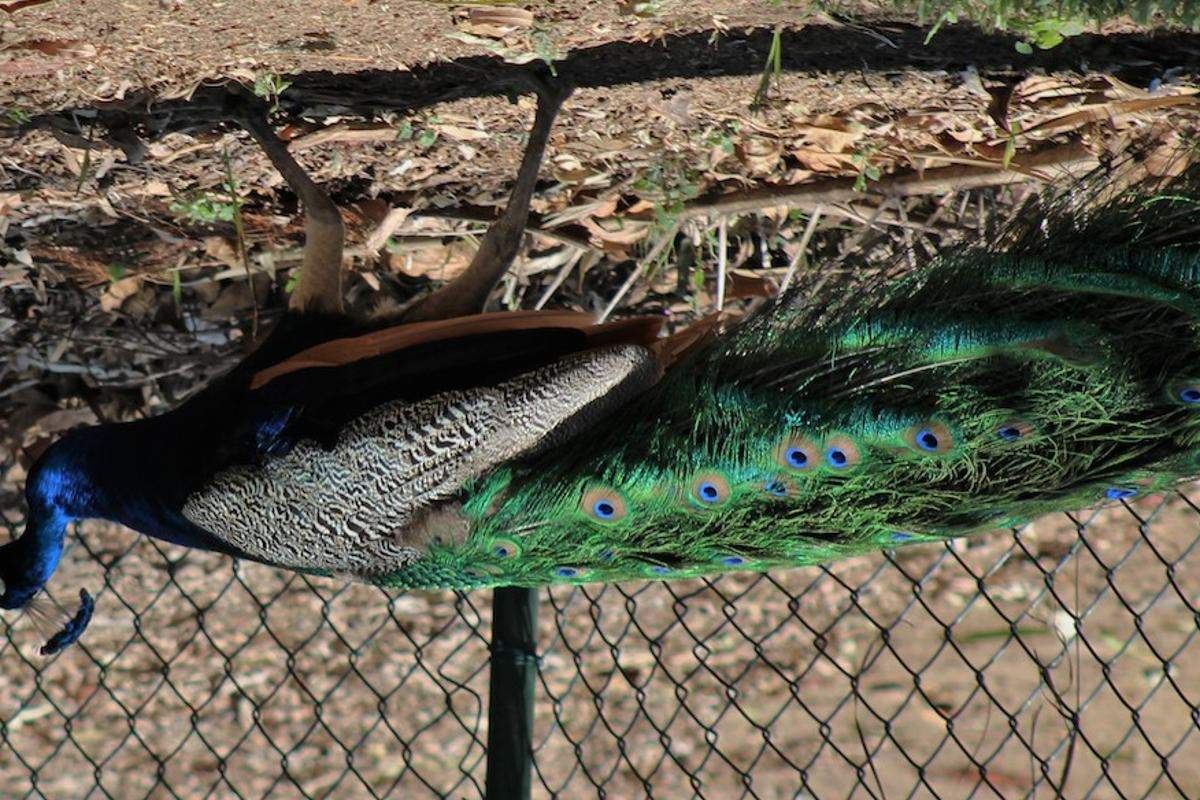peacock: (10, 294, 1200, 615)
